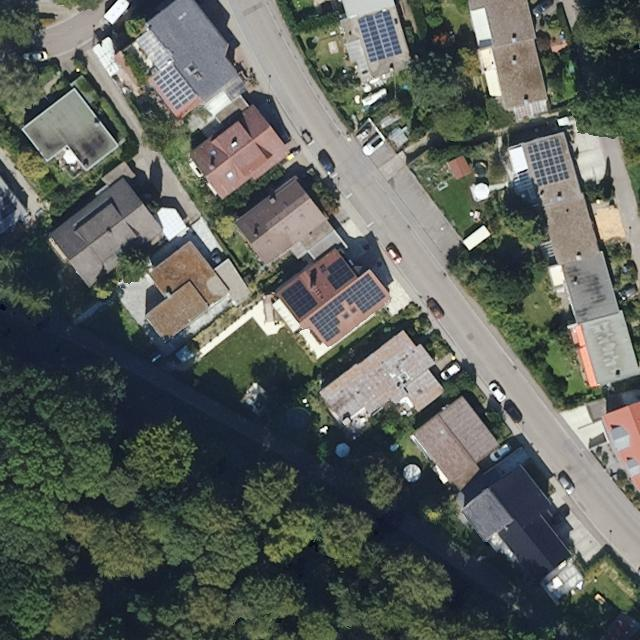PV: (307, 271, 389, 346), (353, 6, 405, 66), (524, 135, 574, 190), (150, 62, 199, 114), (277, 276, 321, 321), (325, 252, 359, 293)
